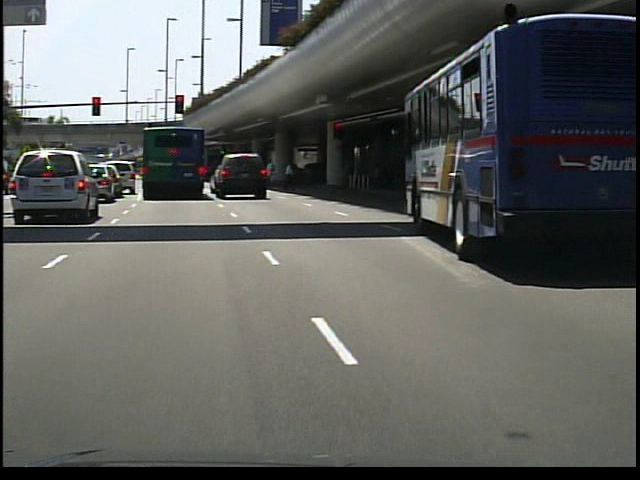person: (279, 157, 299, 194)
